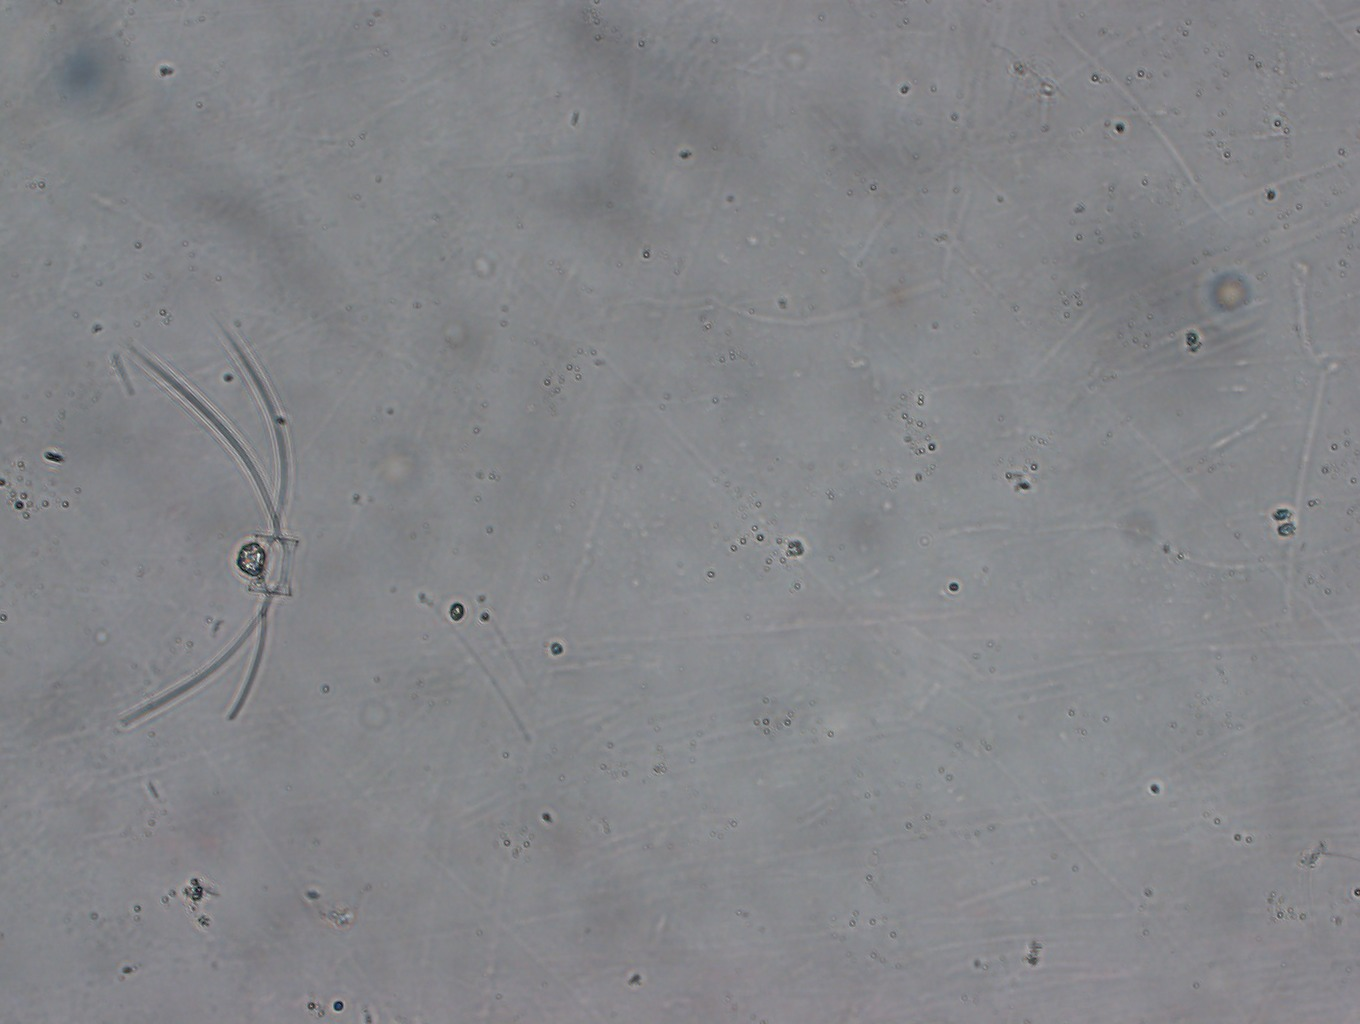chaetoceros: (112, 318, 299, 733)
